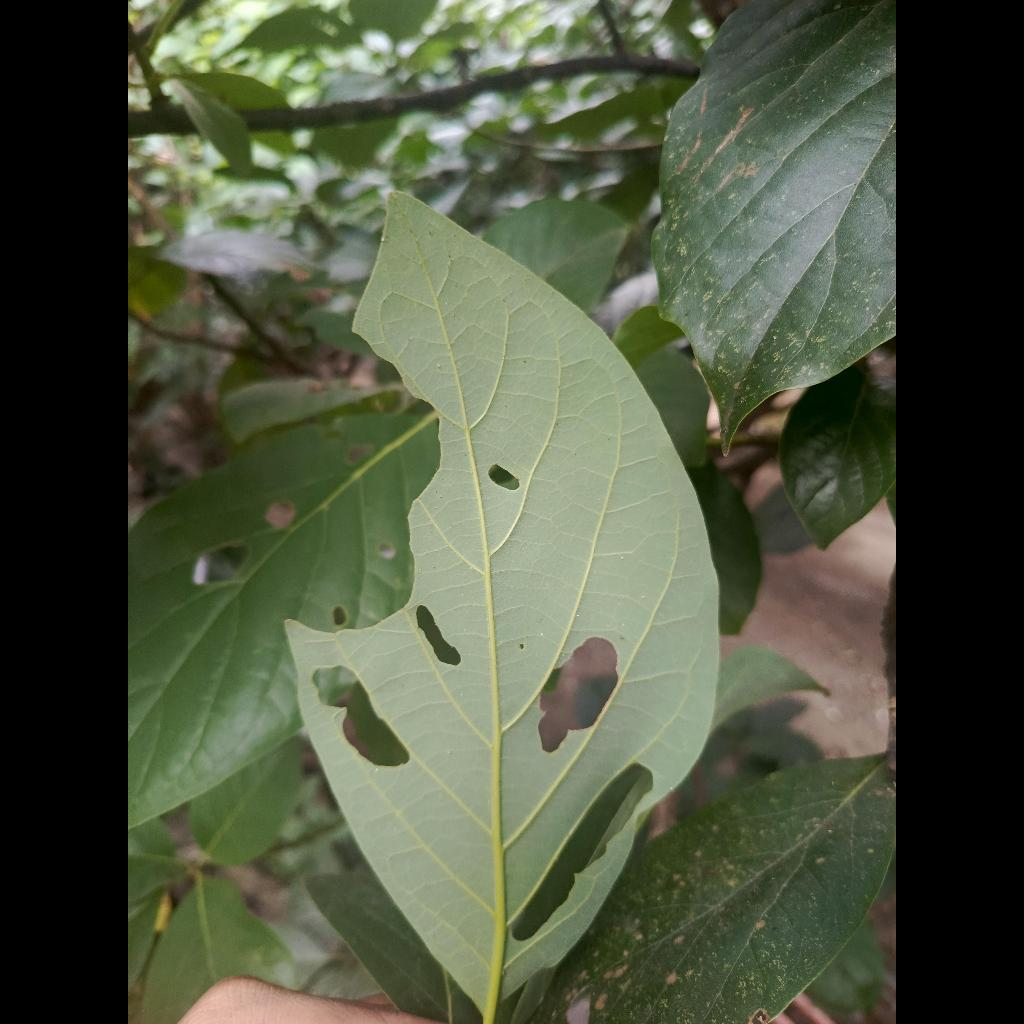plaga: (285, 195, 718, 1024), (128, 413, 438, 825)
